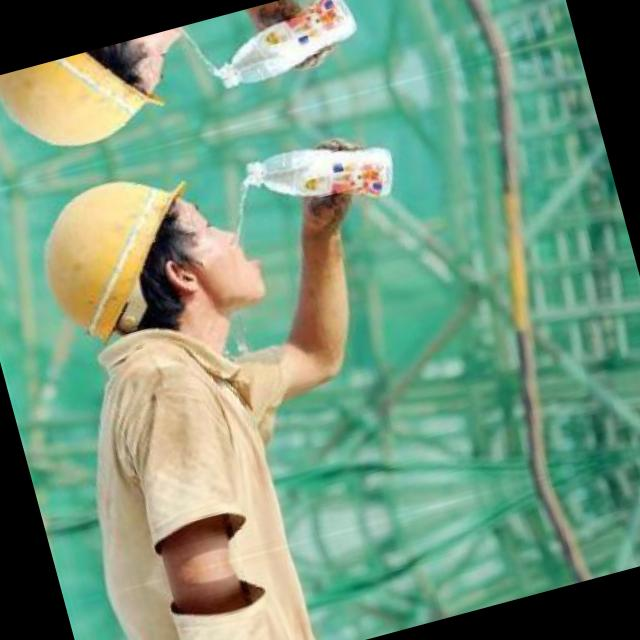helmet: (10, 136, 286, 371), (0, 19, 233, 175)
